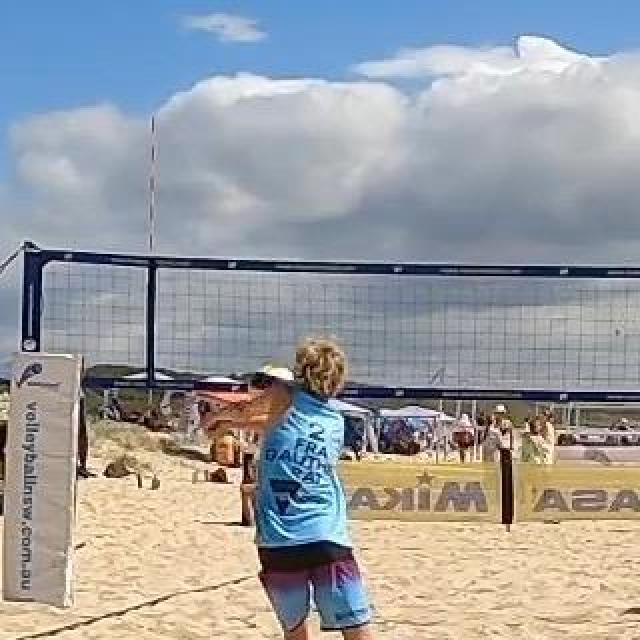volleyball: (248, 365, 296, 411)
